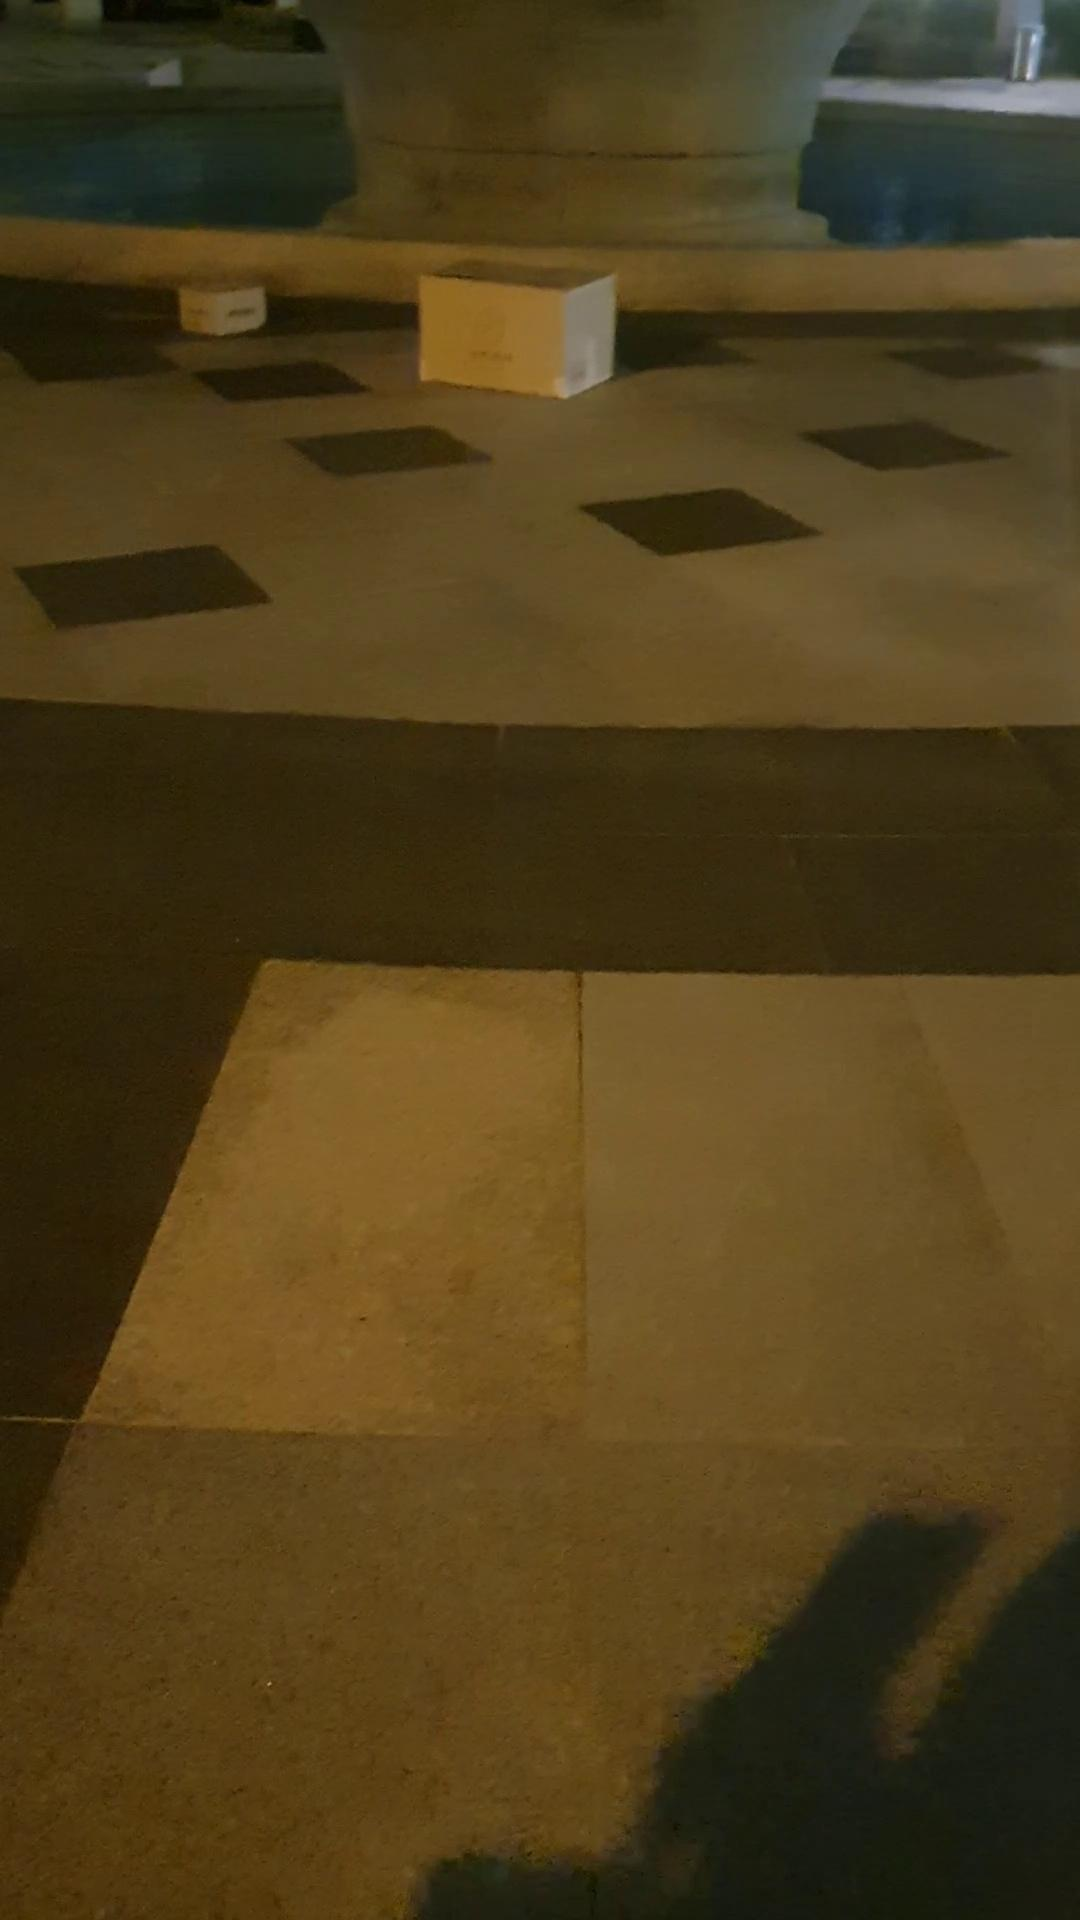Box: (393, 251, 650, 411), (142, 253, 272, 365)
